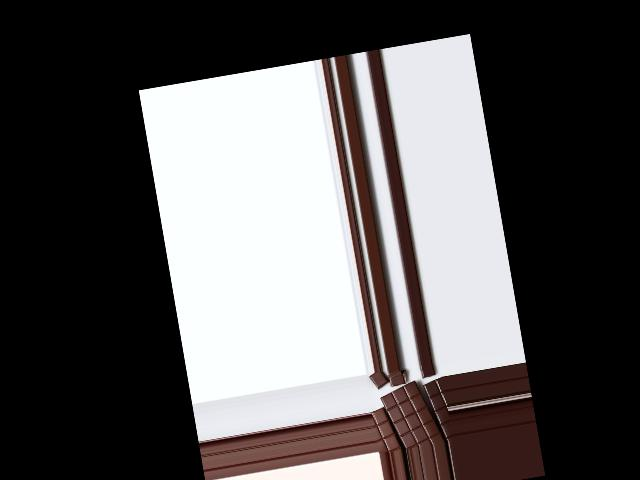chocolate: (377, 378, 443, 452)
